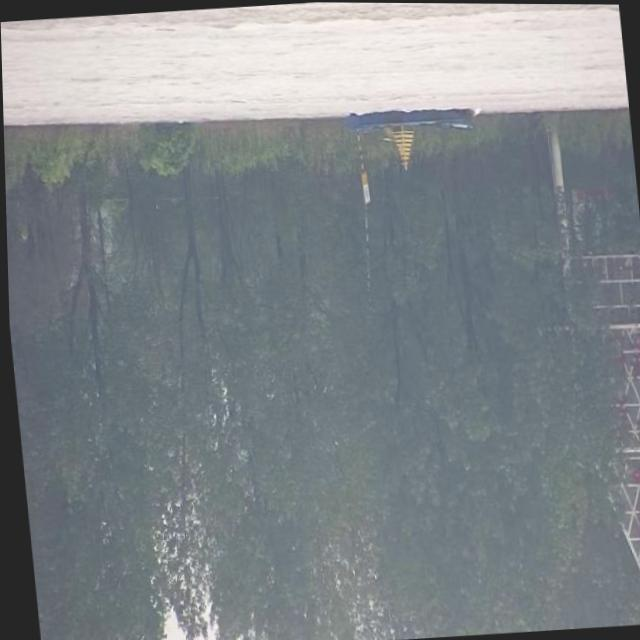ship2: (345, 107, 475, 170)
